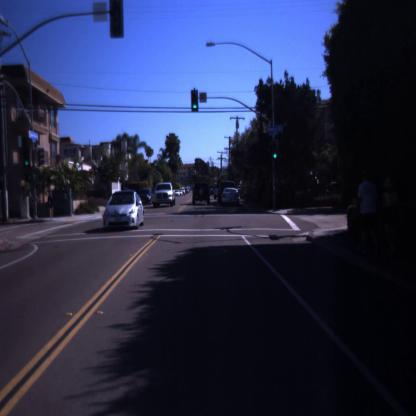trafficlight: (189, 88, 200, 114), (270, 139, 279, 159)
